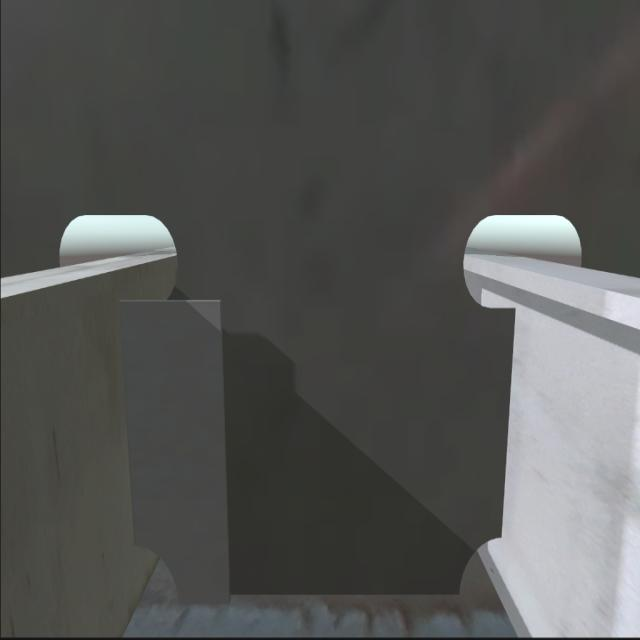fillet_hole: (459, 532, 508, 594), (134, 540, 180, 604)
fillet_yong_jeop_jang: (172, 583, 465, 605)
longi_yong_jeop_jang: (114, 290, 145, 550), (493, 300, 518, 546)
plate_CP01: (120, 297, 230, 603)
